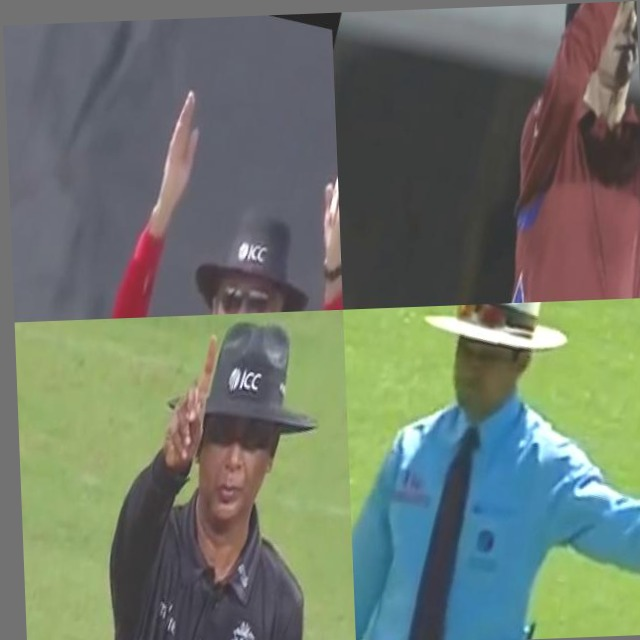No_Ball: (343, 298, 640, 640)
Out: (35, 310, 356, 640)
Six: (35, 54, 343, 321), (408, 1, 640, 307)
